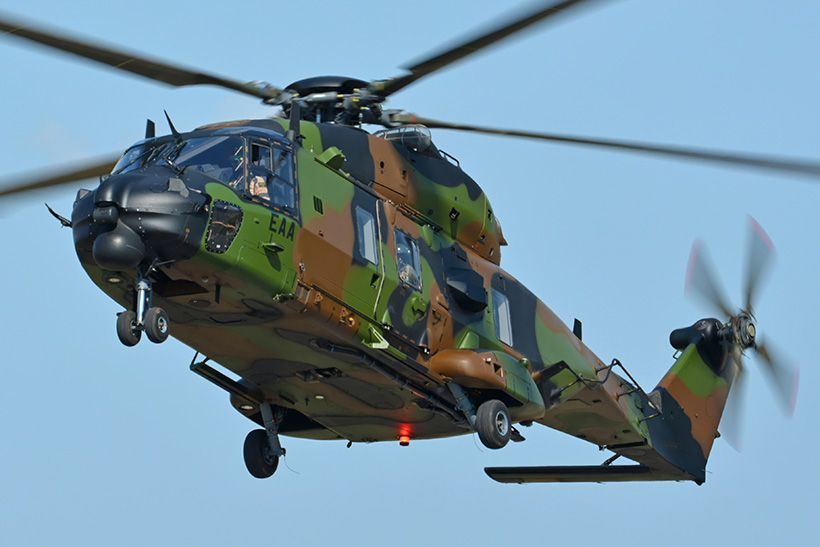Aeronef_militaire: (1, 1, 819, 508)
